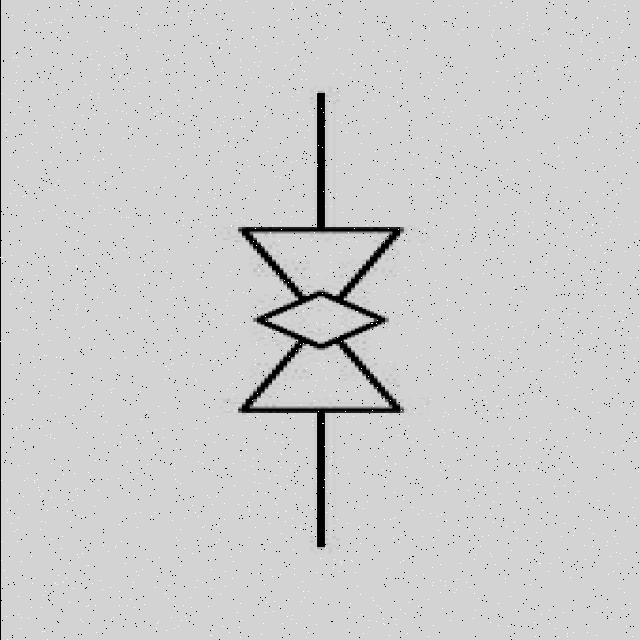Plug Valve: (194, 177, 486, 468)
